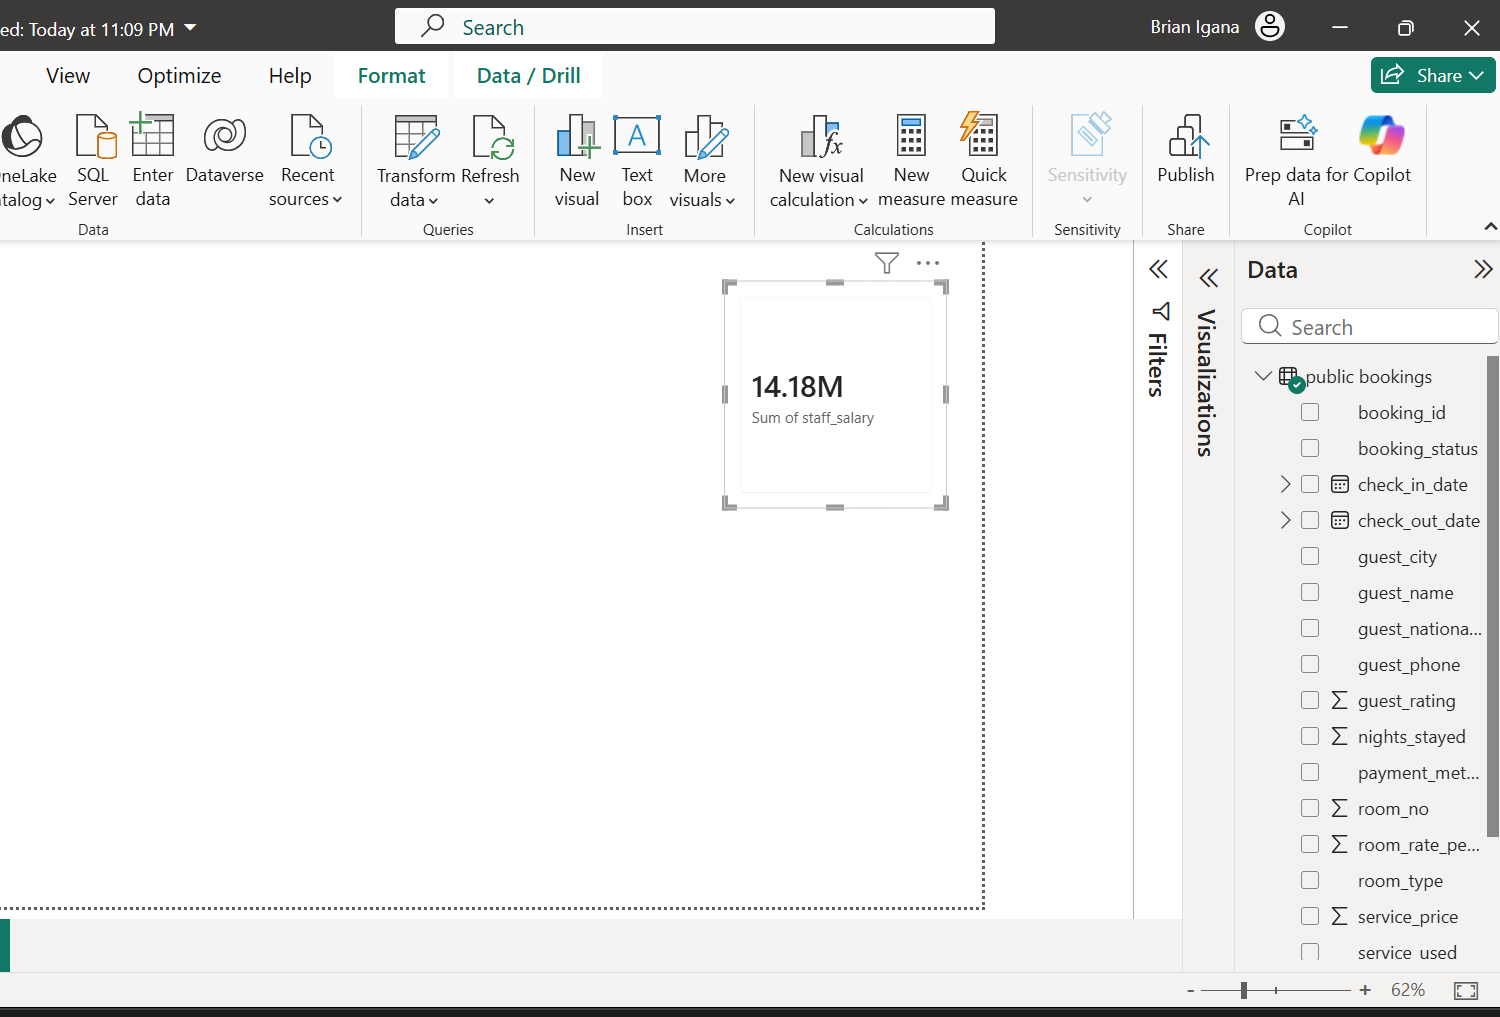

Layout of this report page (visuals, bound fields, positions):
{"tool":"powerbi","page":{"name":"Page 1","canvas":[1280,720],"ordinal":0},"visuals":[{"type":"cardVisual","fields":{"Data":["Sum(public bookings.staff_salary)"]},"box":[1000.7,43.7,241.3,246.1],"z":0}]}

Visuals, with their boxes on the page's 1280x720 design canvas (x1, y1, x2, y2). These are canvas units, not pixel positions in the 1500x1017 screenshot, which may show the page scaled, cropped or inside an application window:
cardVisual - Sum(public bookings.staff_salary): [left=1001, top=44, right=1242, bottom=290]
